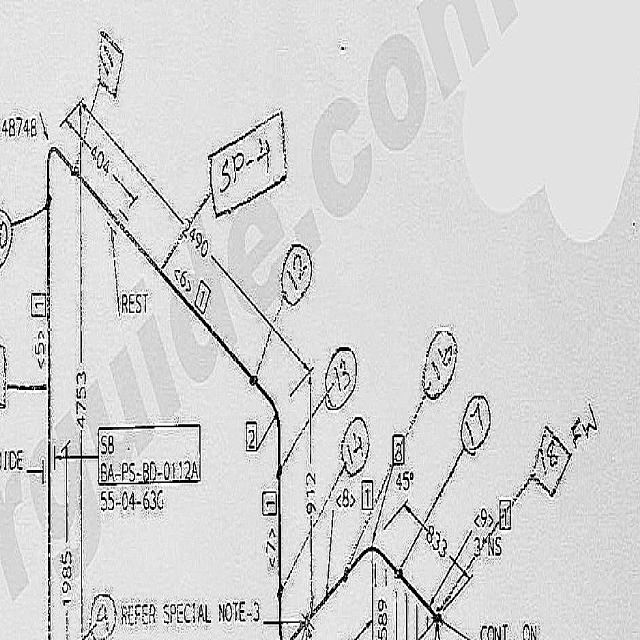Item number: (96, 420, 202, 490), (190, 272, 217, 322), (497, 495, 515, 538), (29, 289, 48, 322), (244, 417, 259, 455), (391, 430, 406, 468), (260, 489, 278, 519), (361, 478, 376, 511)
Measrement: (74, 93, 314, 382), (57, 108, 143, 211), (400, 495, 477, 587), (75, 179, 89, 639), (303, 362, 318, 620), (58, 426, 72, 639), (474, 532, 502, 561), (394, 464, 416, 497)
Pipeline: (43, 125, 290, 639), (287, 534, 445, 639)
Symbol: (246, 362, 290, 485), (40, 134, 80, 216), (341, 538, 404, 588), (273, 575, 319, 640)
Weld number: (88, 19, 132, 105), (530, 418, 571, 509), (418, 323, 460, 403), (277, 240, 314, 314), (458, 390, 493, 461), (324, 341, 358, 414), (338, 414, 372, 482)
other: (98, 487, 168, 515), (0, 107, 42, 146), (116, 285, 152, 323)
